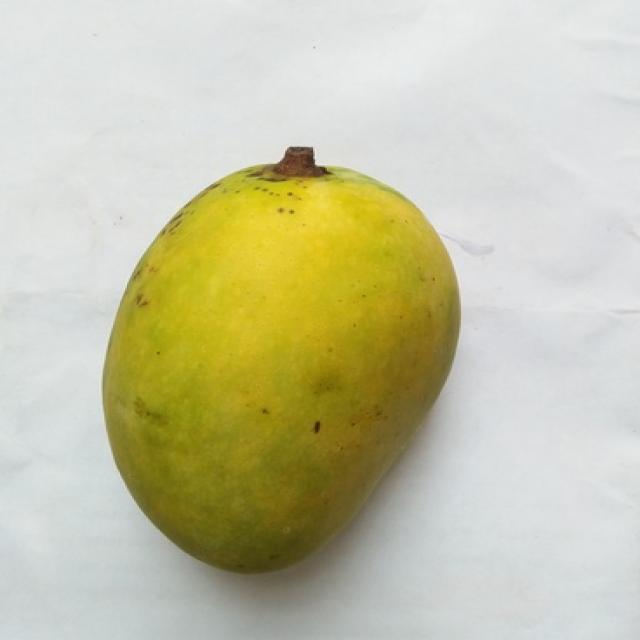Mango: (104, 148, 457, 570)
